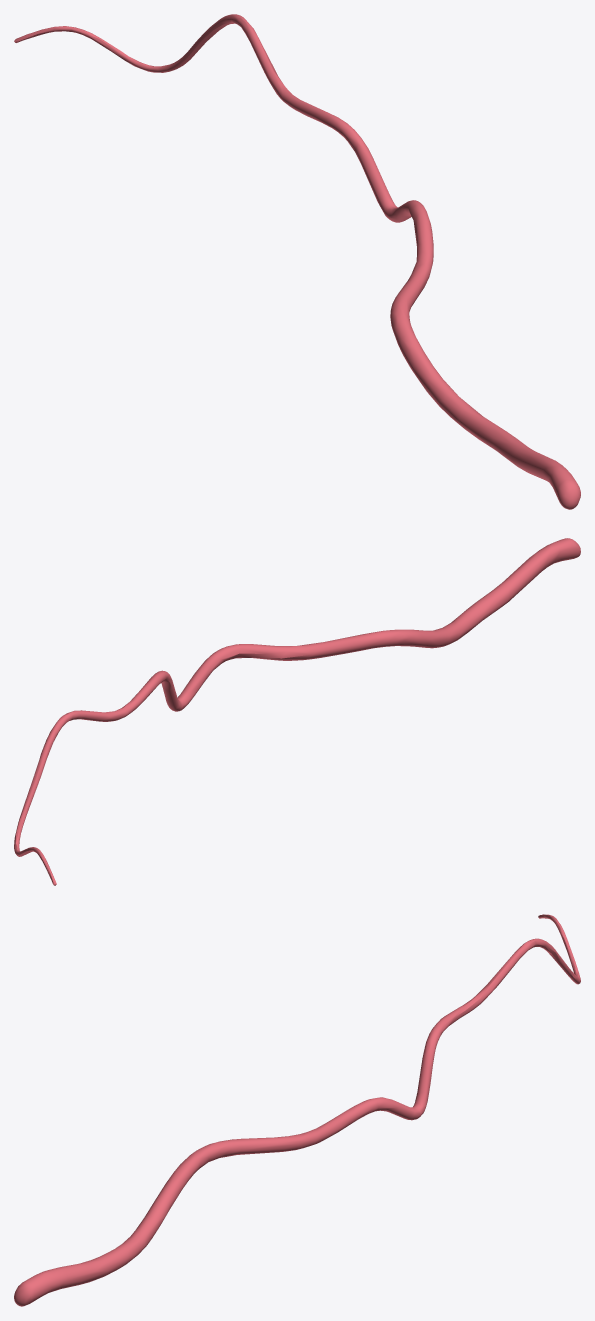
File: fma50690_fj5114.glb
3 renders of one model, top to bottom at view 1: azimuth 30°, elevation 25°; view 2: azimuth 150°, elevation 25°; view 3: azimuth 330°, elevation 25°, orthographic. The views are drawn at different scales.
Visible parts, largest first — view 1: FMA50690_FJ5114; view 2: FMA50690_FJ5114; view 3: FMA50690_FJ5114.
Boxes of the visible parts, left/top/right/bottom form: FMA50690_FJ5114: left=14, top=14, right=580, bottom=509; FMA50690_FJ5114: left=14, top=538, right=580, bottom=885; FMA50690_FJ5114: left=14, top=914, right=580, bottom=1306.
Size of the model in its own units: 0.0115 by 0.00951 by 0.0737.
